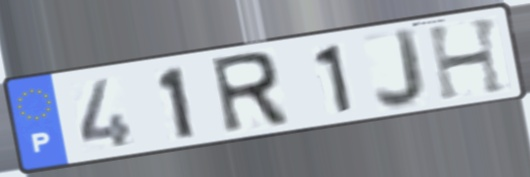1: (155, 62, 198, 142), (311, 40, 355, 116)
4: (74, 75, 136, 150)
H: (423, 13, 511, 104)
J: (371, 26, 429, 111)
R: (206, 48, 294, 138)
